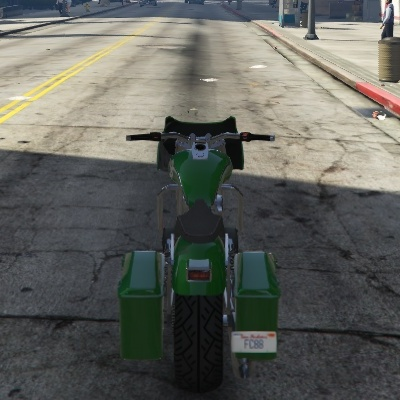off: (183, 253, 217, 288)
